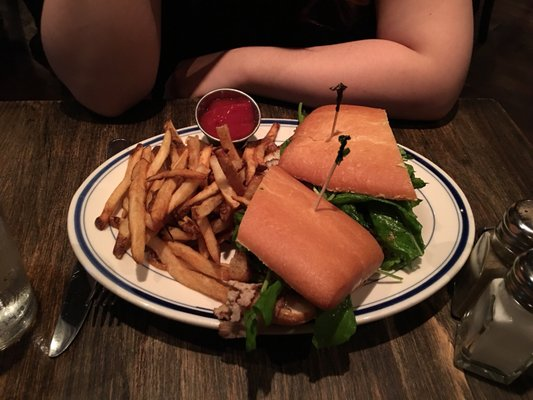pizza: (36, 0, 163, 119)
soup: (236, 103, 424, 314)
